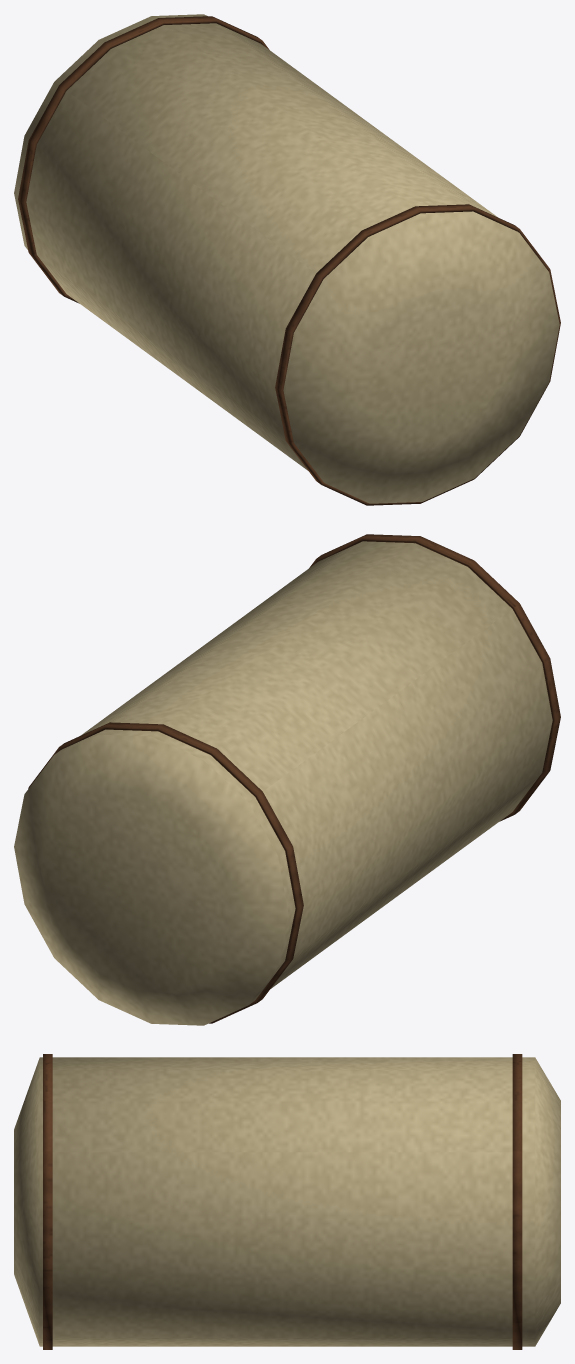
The model's file is charge_ri12.glb.
The picture shows the model from 3 angles, top to bottom: view 1: azimuth 30°, elevation 25°; view 2: azimuth 150°, elevation 25°; view 3: azimuth 270°, elevation 25°; orthographic projection. The views are drawn at different scales.
Visible parts, largest first — view 1: charge_ri12.body; view 2: charge_ri12.body; view 3: charge_ri12.body.
Boxes of the visible parts, <box> form: charge_ri12.body: <box>14,14,560,505</box>; charge_ri12.body: <box>14,534,560,1025</box>; charge_ri12.body: <box>14,1054,560,1349</box>.
Size of the model in its own units: 0.092 by 0.092 by 0.17.
2 materials, 2 textured.
